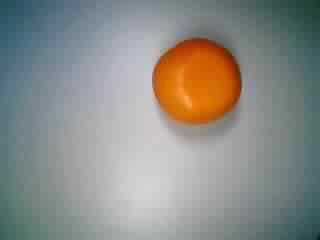orange: (149, 33, 244, 127)
